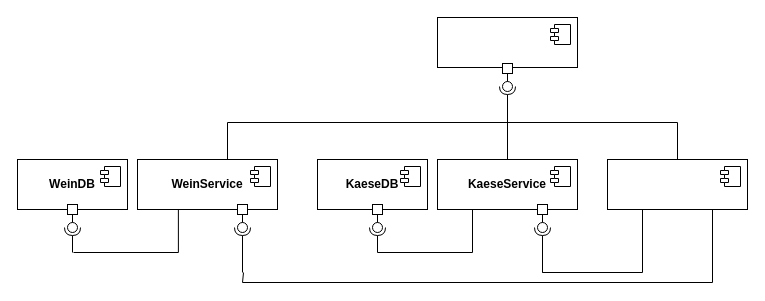
The diagram is 765 pixels wide and 301 high, and some of its shapes have lost their labels. Here are the shapes that lost their labels. From the top down, the centre of each, then its label:
At point (507, 42): "Eureka-Server".
At point (677, 184): "MainApp".
